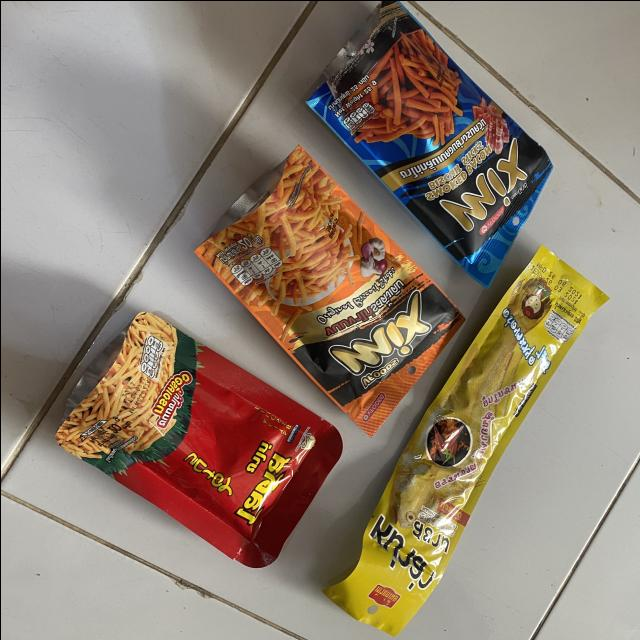plastik: (323, 245, 607, 635), (194, 146, 464, 435), (55, 311, 341, 566), (306, 0, 551, 286)
